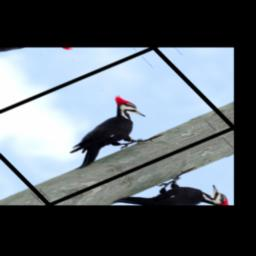Woodpecker: (36, 93, 166, 172)
